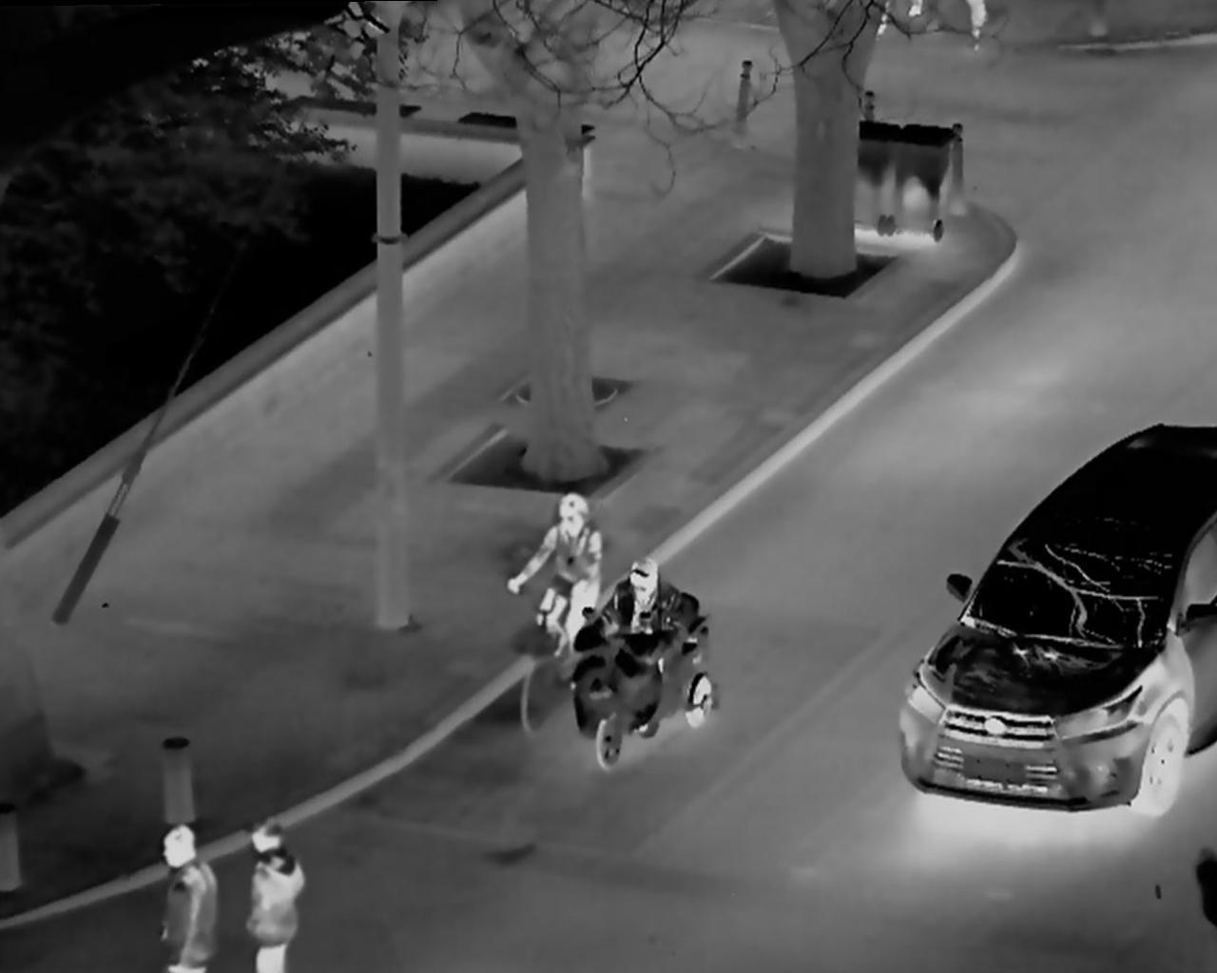person: (596, 550, 691, 732), (512, 487, 601, 666), (150, 812, 231, 973), (238, 810, 312, 966)
